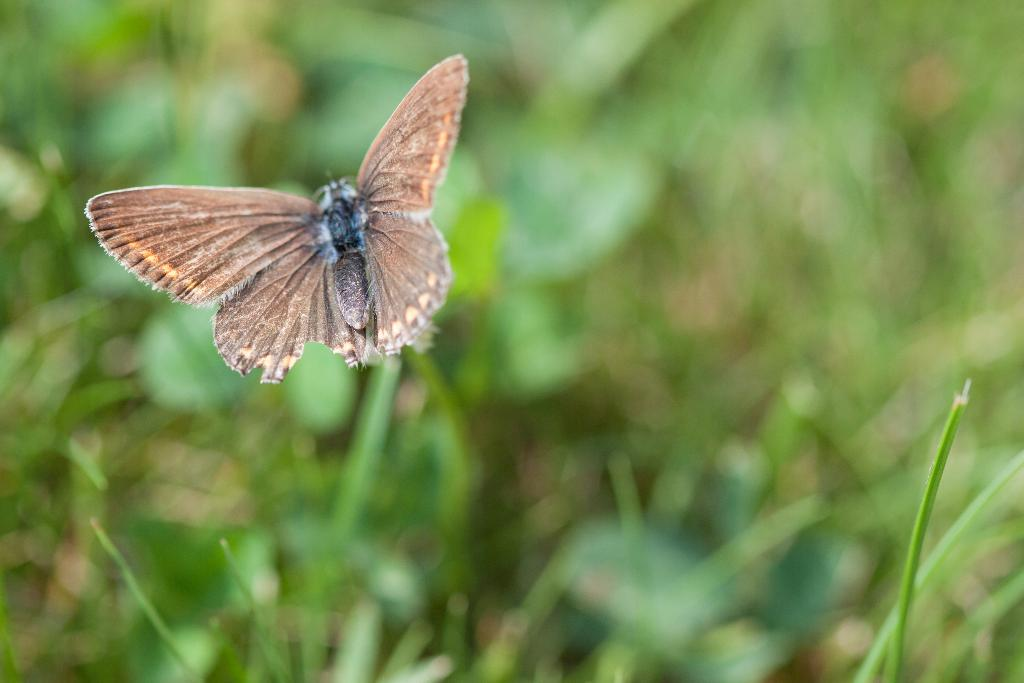Butterfly: (58, 35, 482, 387)
